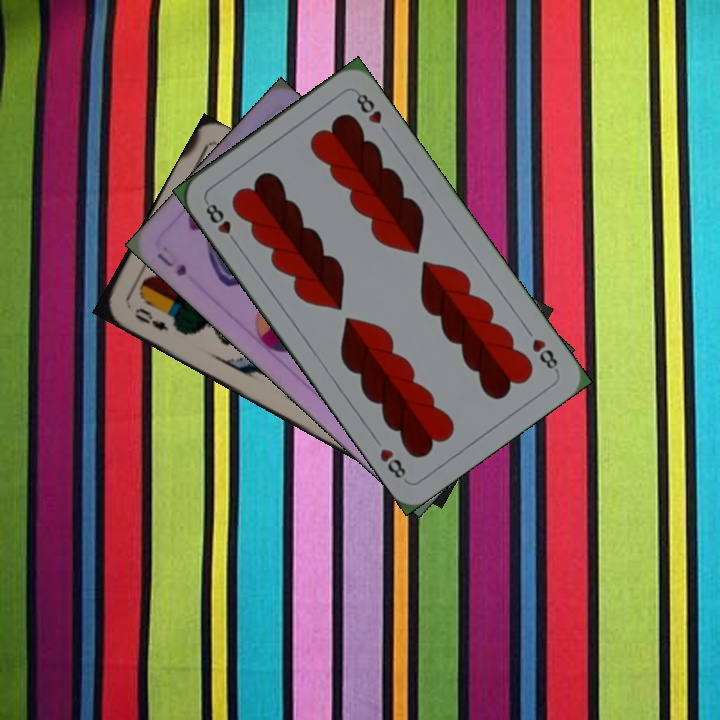EO: (130, 303, 171, 334)
H8: (201, 197, 241, 248), (528, 334, 561, 375)
SU: (153, 249, 190, 279)
